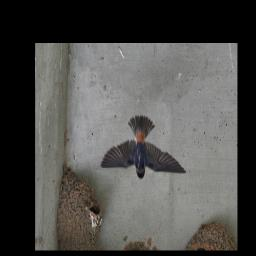Swallow: (99, 115, 189, 181)
